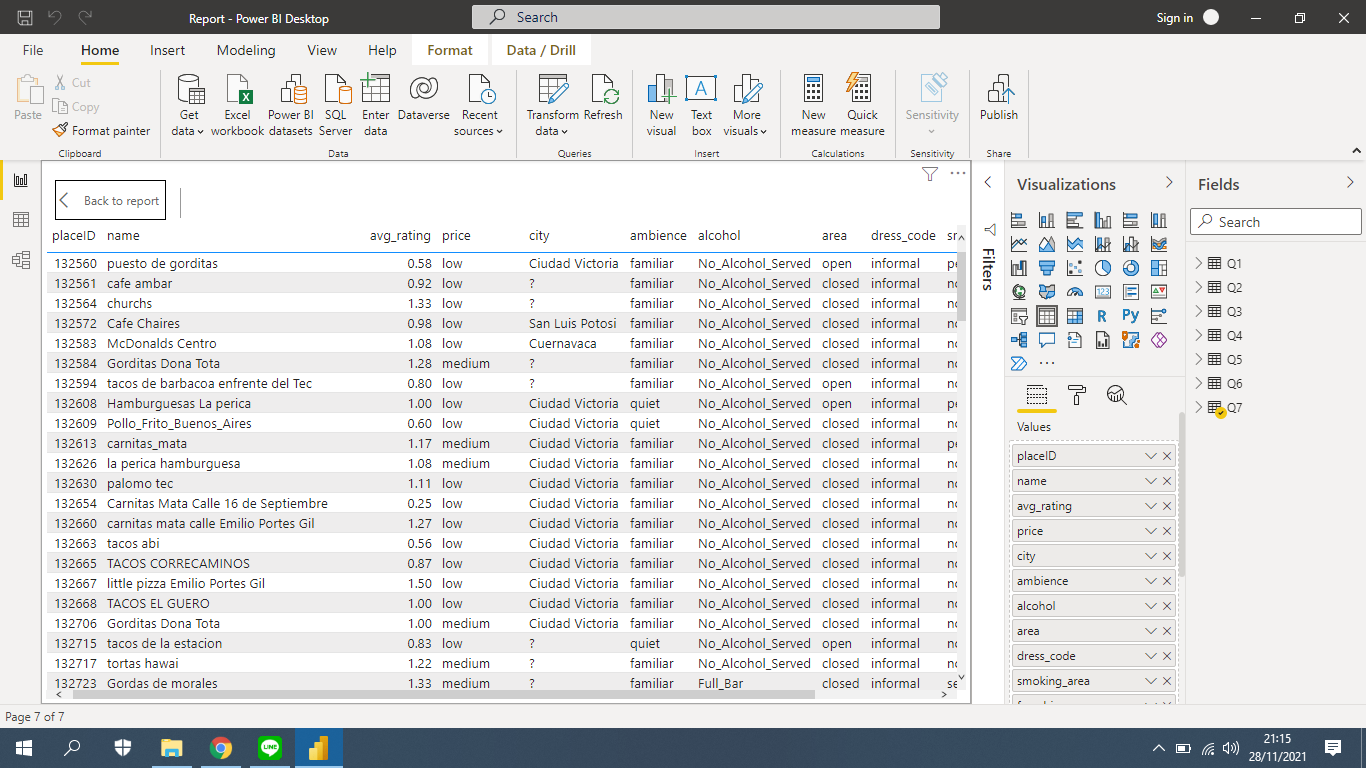

Layout of this report page (visuals, bound fields, positions):
{"tool":"powerbi","page":{"name":"Q7","canvas":[1280,720],"ordinal":6},"visuals":[{"type":"tableEx","fields":{"Values":["Q7.placeID","Q7.name","Sum(Q7.avg_rating)","Q7.price","Q7.city","Q7.ambience","Q7.alcohol","Q7.area","Q7.dress_code","Q7.smoking_area","Q7.franchise"]},"box":[127.9,93.4,662.5,421.1],"z":0}]}

Visuals, with their boxes on the page's 1280x720 design canvas (x1, y1, x2, y2). These are canvas units, not pixel positions in the 1366x768 screenshot, which may show the page scaled, cropped or inside an application window:
tableEx - Q7.placeID x Q7.name: 128 93 790 514
